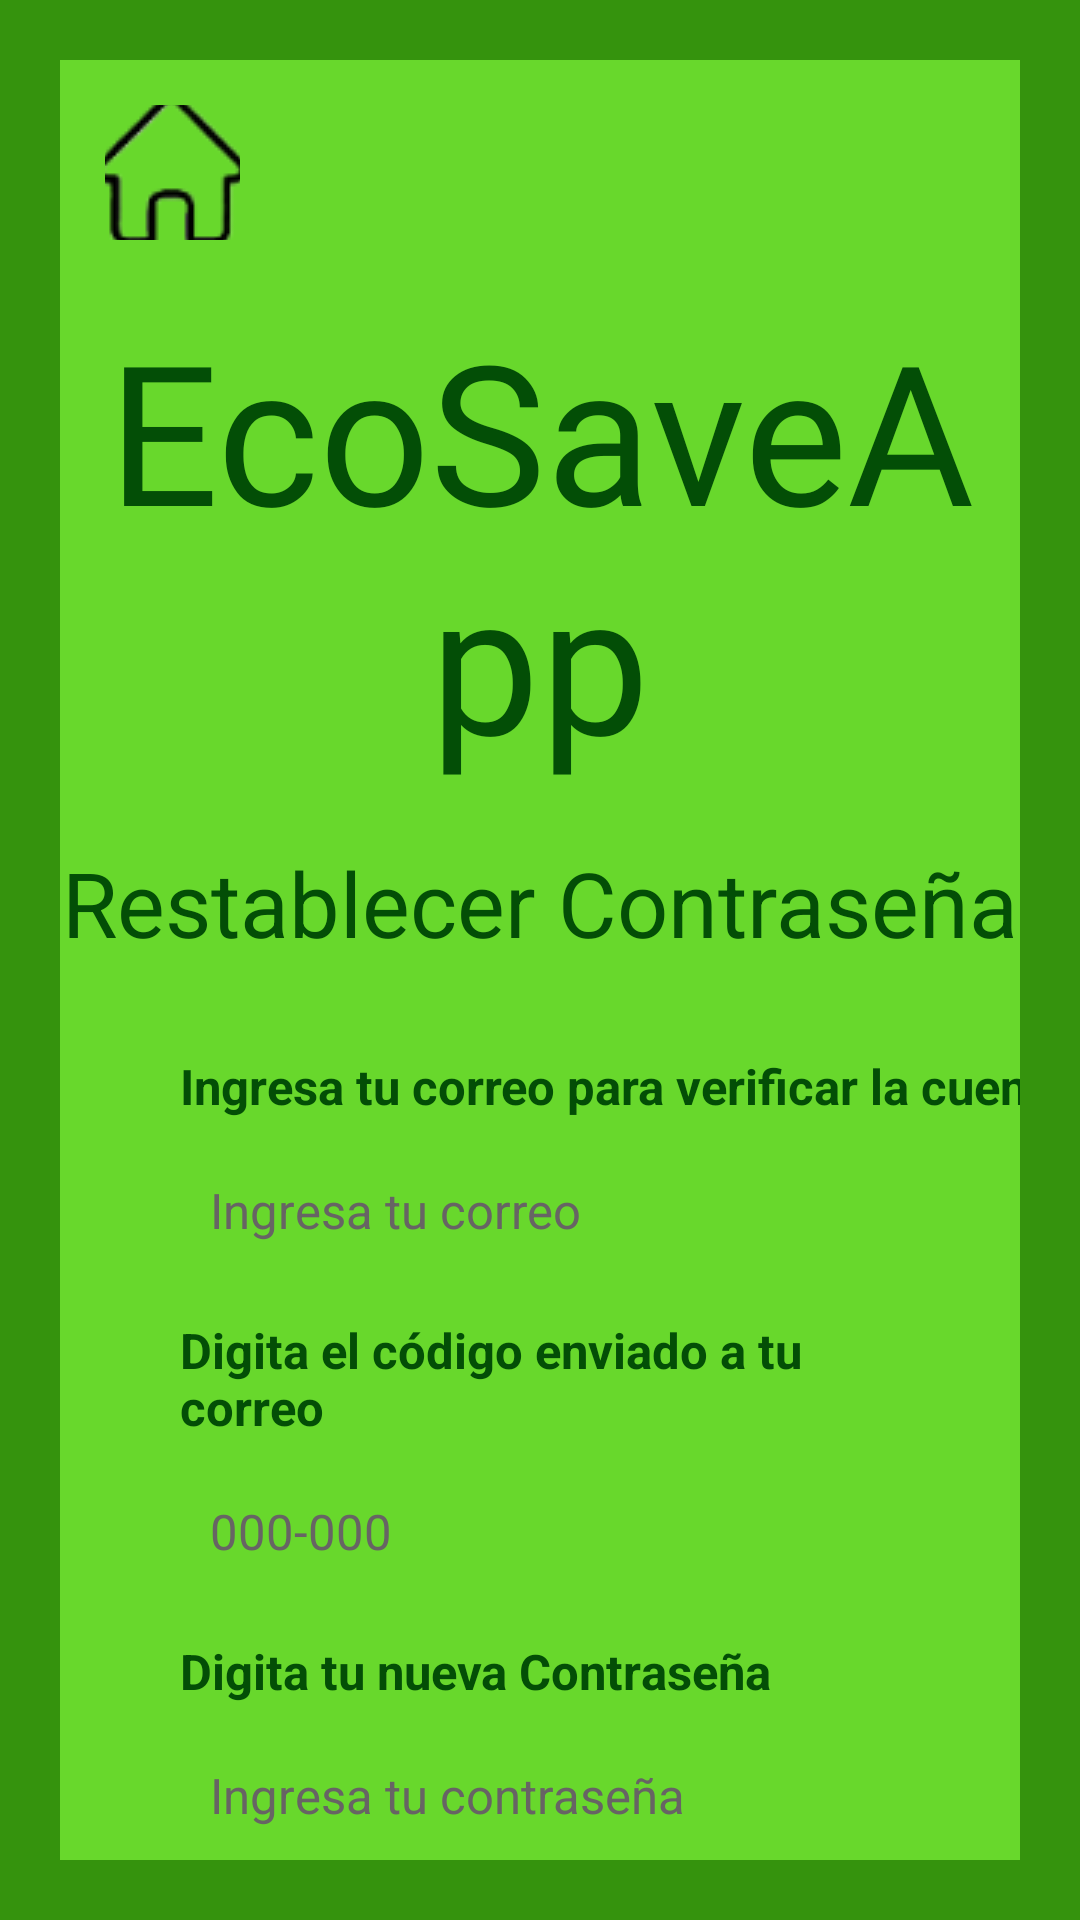

Screen size 1080*1920. Icon name, then its box in pixels as (x1, y1, x2, y2):
casa: (105, 105, 240, 240)
